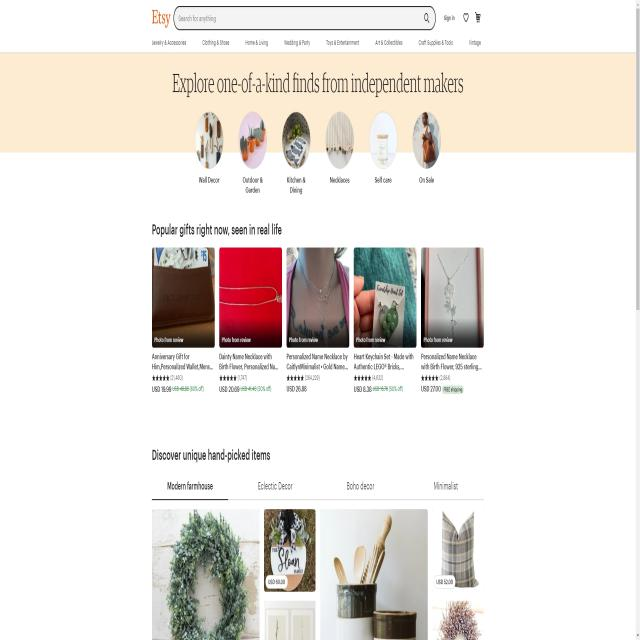menu-bar: (441, 9, 483, 29)
search: (172, 5, 437, 29)
tab-bar: (140, 463, 488, 505), (148, 32, 486, 52)
